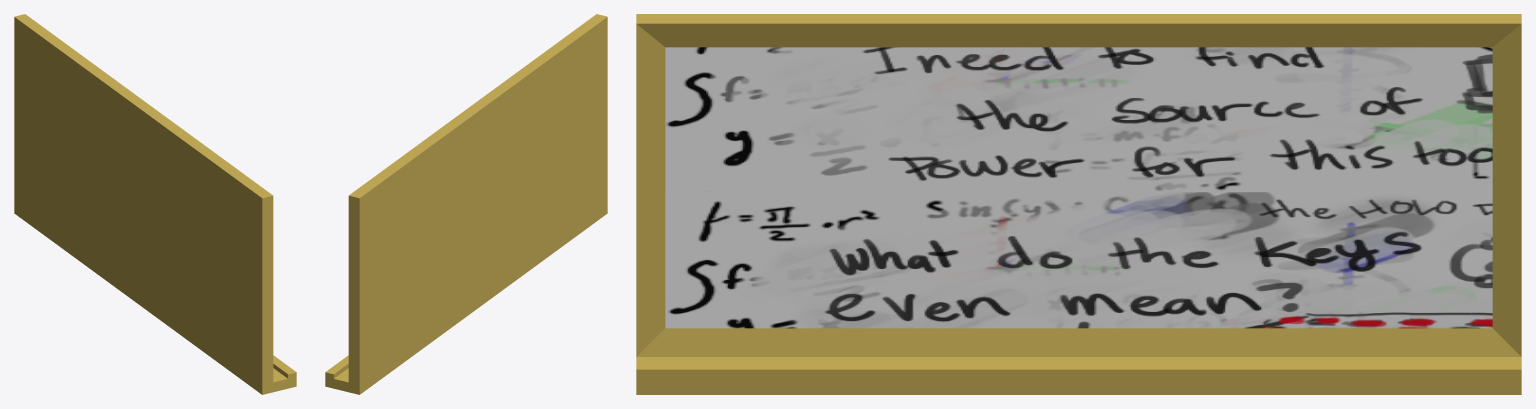
File: whiteboard.fbx
3 renders of one model, left to right at view 1: azimuth 30°, elevation 25°; view 2: azimuth 150°, elevation 25°; view 3: azimuth 270°, elevation 25°, orthographic. The views are drawn at different scales.
Visible parts, largest first — view 1: whiteboard; view 2: whiteboard; view 3: whiteboard.
Boxes of the visible parts, box(x1,y1,x2,y2) form: whiteboard: box(14, 14, 296, 394); whiteboard: box(325, 14, 607, 394); whiteboard: box(636, 14, 1521, 394).
Bounding box in the file's own units: 44.13 × 240 × 550.
2 materials, 1 textured.
